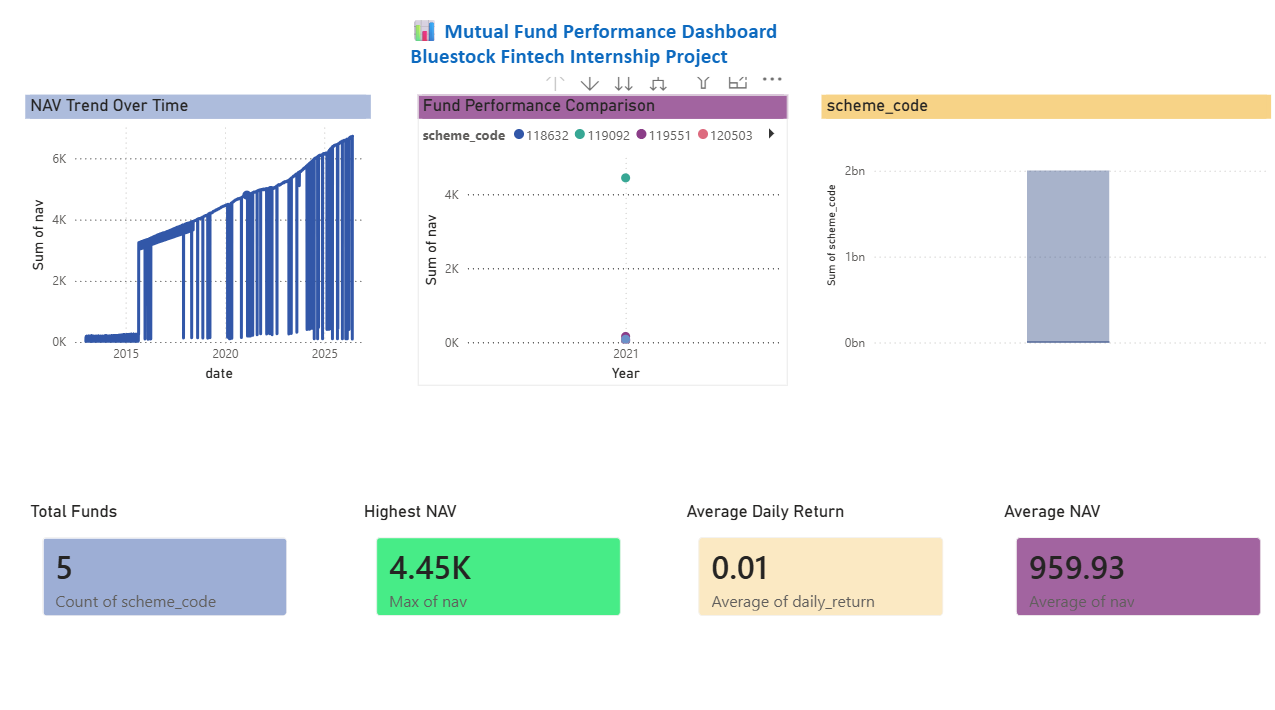

Layout of this report page (visuals, bound fields, positions):
{"tool":"powerbi","page":{"name":"Page 1","canvas":[1280,720],"ordinal":0},"visuals":[{"type":"cardVisual","title":"Total Funds","fields":{"Data":["Count(combined_funds.scheme_code)"]},"box":[26.1,505,279.9,133.1],"z":0},{"type":"lineChart","title":"NAV Trend Over Time","fields":{"Y":["Sum(combined_funds.nav)"],"Category":["combined_funds.date"]},"box":[26,98.2,345.5,291.3],"z":1000},{"type":"lineChart","title":"Fund Performance Comparison","fields":{"Category":["combined_funds.date.Variation.Date Hierarchy.Year","combined_funds.date.Variation.Date Hierarchy.Quarter","combined_funds.date.Variation.Date Hierarchy.Month","combined_funds.date.Variation.Date Hierarchy.Day"],"Y":["Sum(combined_funds.nav)"],"Series":["combined_funds.scheme_code"]},"box":[418.9,98.2,370.4,291.3],"z":2000},{"type":"cardVisual","title":"Average NAV","fields":{"Data":["Avg(combined_funds.nav)"]},"box":[1000.3,505,279.9,133.1],"z":3000},{"type":"cardVisual","title":"Average Daily Return","fields":{"Data":["Avg(combined_funds.daily_return)"]},"box":[682,505,279.9,133.1],"z":4000},{"type":"cardVisual","title":"Highest NAV","fields":{"Data":["Max(combined_funds.nav)"]},"box":[359.5,505,279.9,133.1],"z":5000},{"type":"textbox","box":[406.2,13.7,395.2,67.2],"z":6000},{"type":"clusteredColumnChart","title":"scheme_code","fields":{"Y":["Sum(combined_funds.scheme_code)"]},"box":[822,98.2,449.4,262],"z":7000}]}

Visuals, with their boxes in screenshot pixels (x1, y1, x2, y2), scaled from the page's 1280x720 canvas onto the 1275x710 screenshot:
"Total Funds" cardVisual: bbox(26, 498, 305, 629)
"NAV Trend Over Time" lineChart: bbox(26, 97, 370, 384)
"Fund Performance Comparison" lineChart: bbox(417, 97, 786, 384)
"Average NAV" cardVisual: bbox(996, 498, 1274, 629)
"Average Daily Return" cardVisual: bbox(679, 498, 958, 629)
"Highest NAV" cardVisual: bbox(358, 498, 637, 629)
textbox: bbox(405, 14, 798, 80)
"scheme_code" clusteredColumnChart: bbox(819, 97, 1266, 355)
